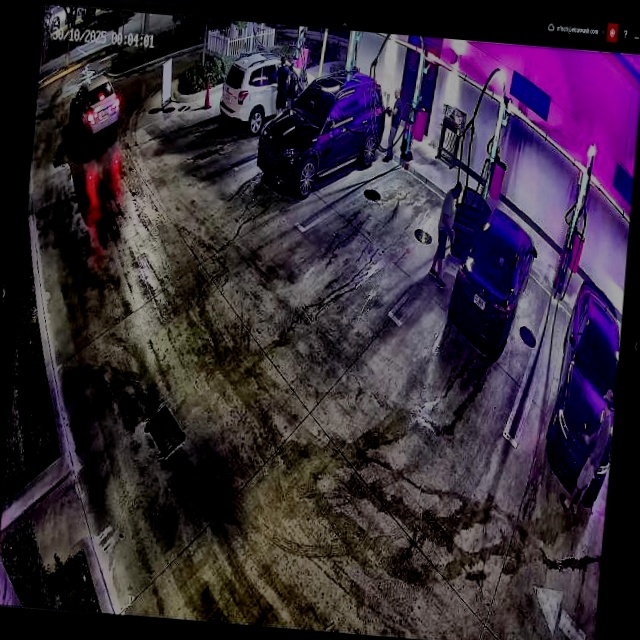Car: (254, 64, 389, 201), (441, 186, 542, 356)
